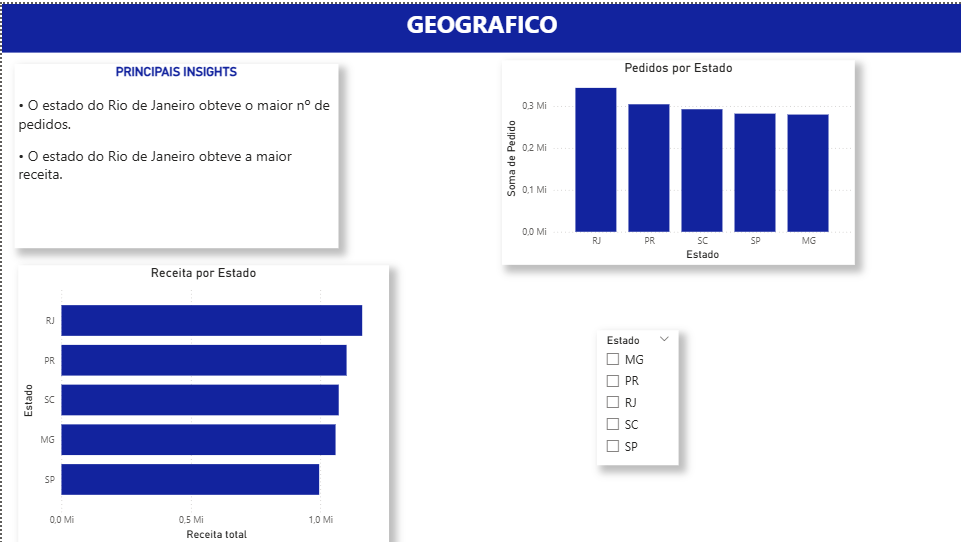

What the dashboard file says about the page in this screenshot:
{"tool":"powerbi","page":{"name":"Geografico","canvas":[1280,720],"ordinal":4},"visuals":[{"type":"textbox","box":[0,0,1280.3,64.5],"z":0},{"type":"clusteredBarChart","title":"Receita por Estado","fields":{"Category":["Clientes.Estado"],"Y":["Vendas.Receita total"]},"box":[22,348.5,494,371.7],"z":1000},{"type":"clusteredColumnChart","title":"Pedidos por Estado","fields":{"Category":["Clientes.Estado"],"Y":["Sum(Vendas.Pedido)"]},"box":[666.4,75.8,470.8,272.7],"z":2000},{"type":"slicer","fields":{"Values":["Clientes.Estado"]},"box":[793.6,435.3,108.8,179.8],"z":3000},{"type":"textbox","title":"PRINCIPAIS INSIGHTS","box":[17.1,80.7,431.7,245.8],"z":3001}]}

Visuals, with their boxes in screenshot pixels (x1, y1, x2, y2), scaled from the page's 1280x720 canvas onto the 961x542 screenshot:
textbox: (left=0, top=0, right=960, bottom=49)
"Receita por Estado" clusteredBarChart: (left=17, top=262, right=387, bottom=541)
"Pedidos por Estado" clusteredColumnChart: (left=500, top=57, right=854, bottom=262)
slicer - Clientes.Estado: (left=596, top=328, right=678, bottom=463)
"PRINCIPAIS INSIGHTS" textbox: (left=13, top=61, right=337, bottom=246)
